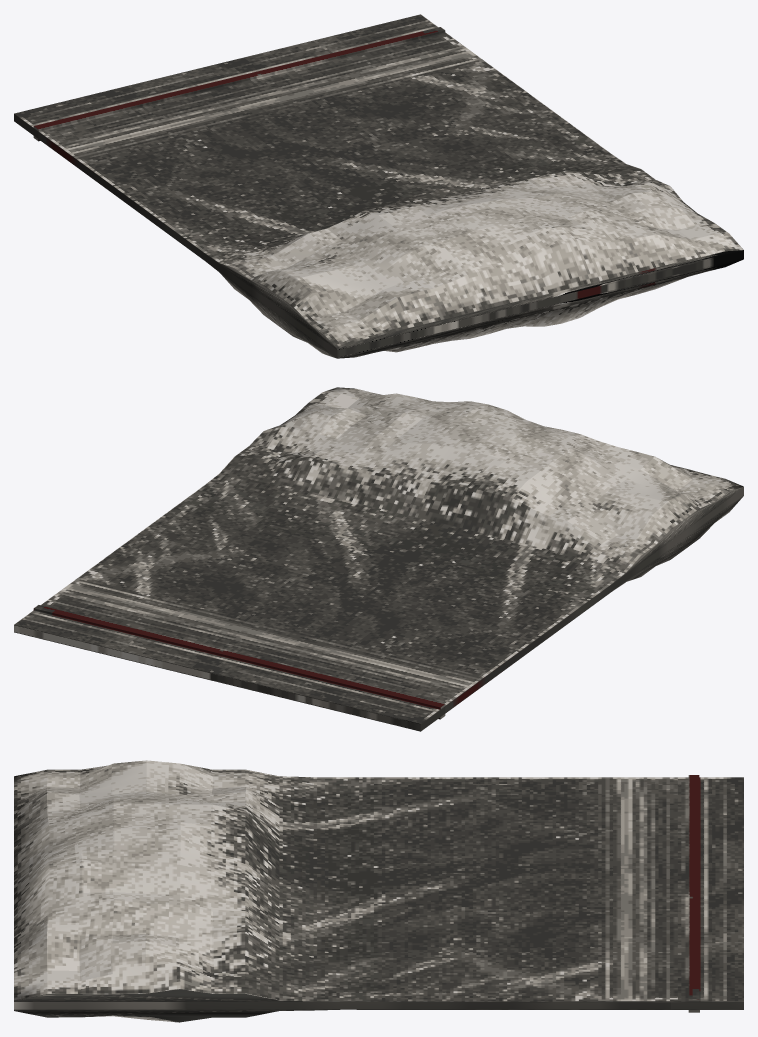
The model's file is cocaine.glb.
3 renders of one model, top to bottom at view 1: azimuth 30°, elevation 25°; view 2: azimuth 150°, elevation 25°; view 3: azimuth 270°, elevation 25°, orthographic. The views are drawn at different scales.
Parts seen in each view (by area): view 1: Cube; view 2: Cube; view 3: Cube.
Boxes of the visible parts, x1,y1,x2,y2 form: Cube: [14, 14, 743, 358]; Cube: [14, 387, 743, 731]; Cube: [14, 760, 743, 1022].
Size of the model in its own units: 2.3 by 0.5016 by 3.16.
1 material, 1 textured.
